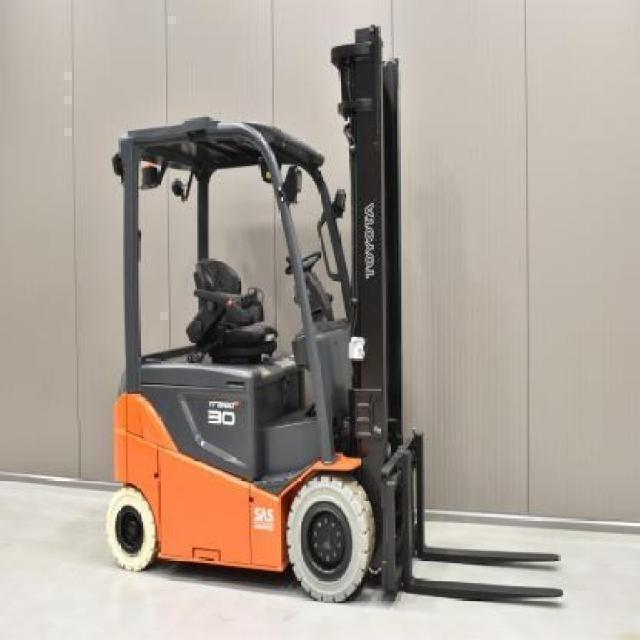forklift: (106, 35, 570, 612)
